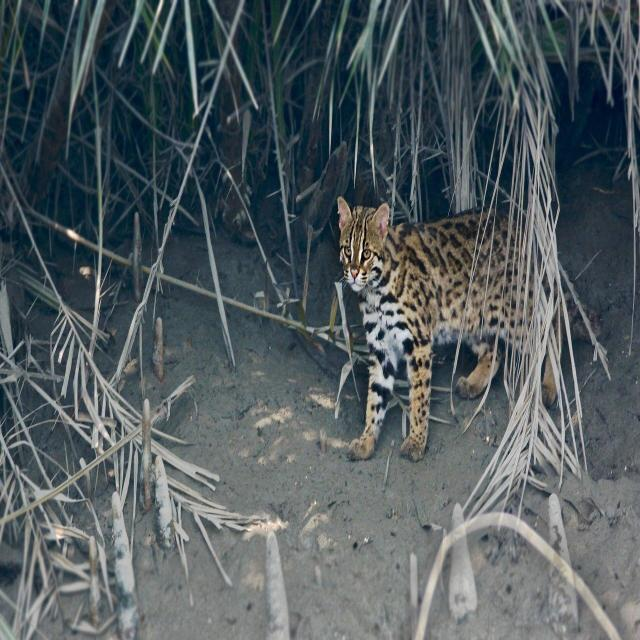leopard: (304, 188, 596, 464)
